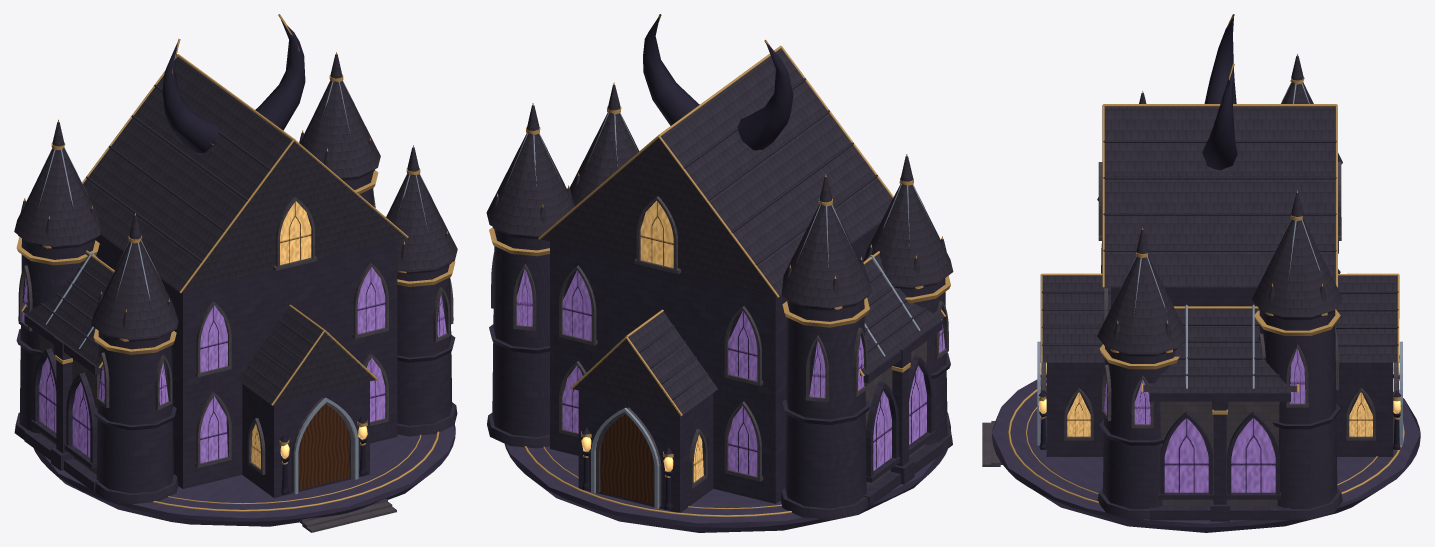
File: ashgrave-mannor-far.glb
3 renders of one model, left to right at view 1: azimuth 30°, elevation 25°; view 2: azimuth 150°, elevation 25°; view 3: azimuth 270°, elevation 25°, orthographic. The views are drawn at different scales.
Bounding box in the file's own units: 14.68 × 15.39 × 15.01.
Materials: 11 (11 with a texture image).
